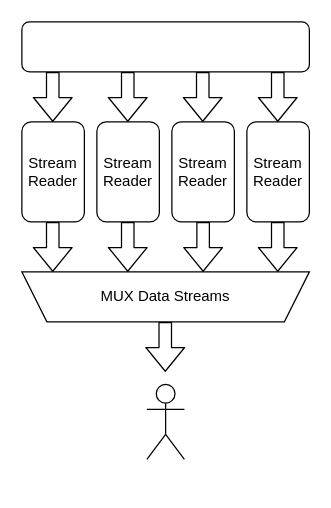
The diagram is 331 pixels wide and 508 high, and some of its shapes have lost their labels. Each missing label, with the box of its shape:
Client: (146, 383, 184, 459)
Data Store: (21, 21, 309, 72)
